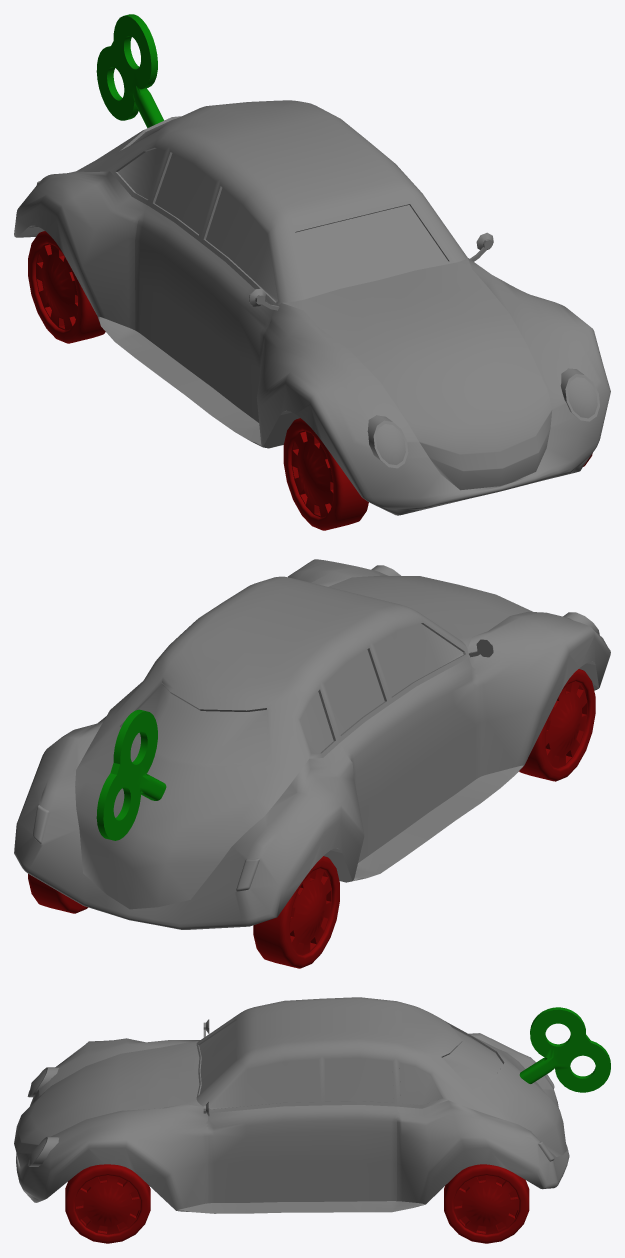
Rendered from NPCCar.fbx.
3 views of the same model, one above another, from view 1: azimuth 30°, elevation 25°; view 2: azimuth 150°, elevation 25°; view 3: azimuth 270°, elevation 25° (orthographic). The views are drawn at different scales.
Parts seen in each view (by area): view 1: Body, WheelFR, WheelBR, Crank; view 2: Body, WheelBR, Crank, WheelFR, WheelBL; view 3: Body, WheelFL, WheelBL, Crank.
Part boxes in pixels (left/top/right/bottom): Body: left=14, top=100, right=610, bottom=515; WheelFR: left=283, top=418, right=368, bottom=530; WheelBR: left=28, top=231, right=105, bottom=343; Crank: left=96, top=14, right=163, bottom=127; Body: left=14, top=559, right=610, bottom=929; WheelBR: left=253, top=856, right=339, bottom=968; Crank: left=96, top=709, right=166, bottom=840; WheelFR: left=519, top=669, right=595, bottom=781; WheelBL: left=28, top=874, right=87, bottom=913; Body: left=14, top=997, right=569, bottom=1213; WheelFL: left=65, top=1164, right=150, bottom=1243; WheelBL: left=444, top=1164, right=529, bottom=1243; Crank: left=519, top=1007, right=610, bottom=1092.
Bounding box in the file's own units: 300 × 258 × 736.
